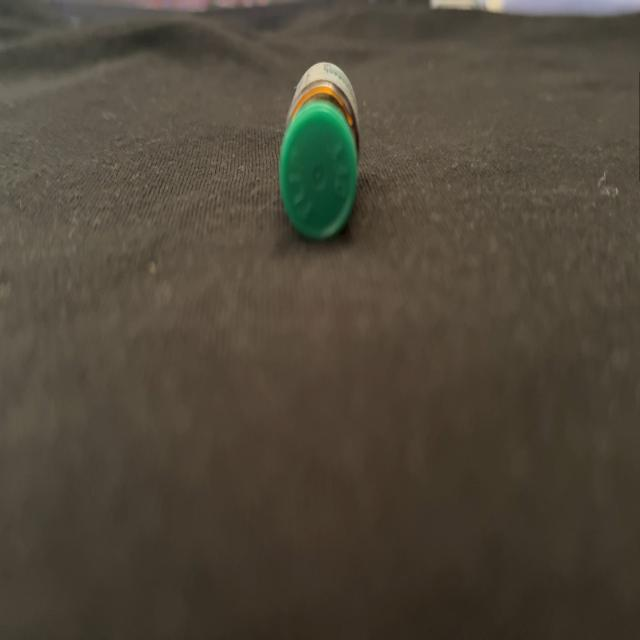midazolm: (280, 65, 358, 238)
